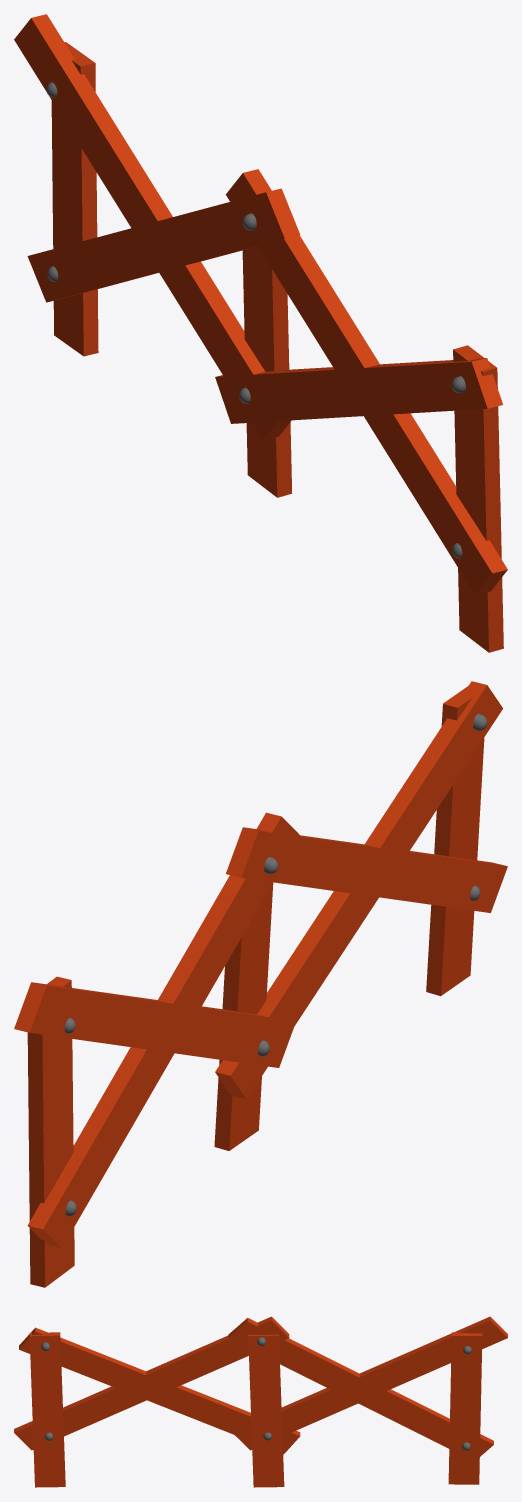
Rendered from EndFence.obj.
3 views of the same model, one above another, from view 1: azimuth 30°, elevation 25°; view 2: azimuth 150°, elevation 25°; view 3: azimuth 270°, elevation 25° (orthographic). The views are drawn at different scales.
Bounding box in the file's own units: 32.49 × 220 × 603.
